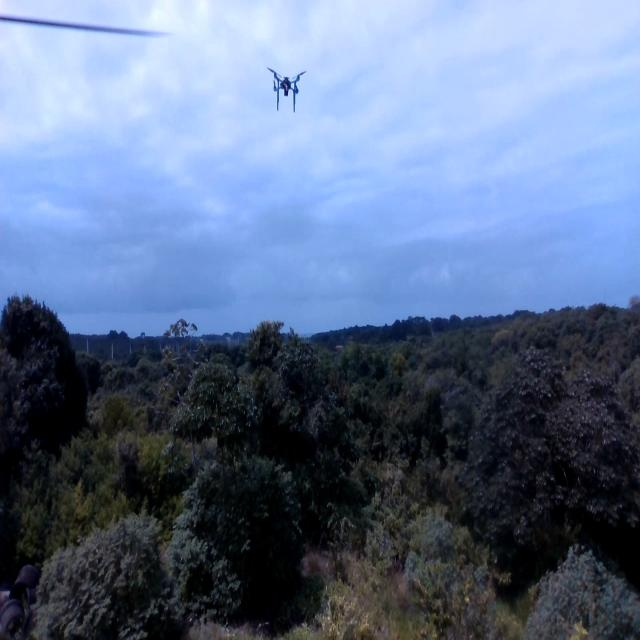-uav-: (264, 61, 312, 126)
